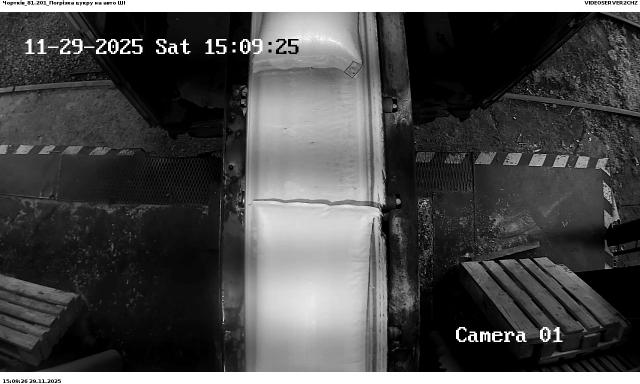bag: (253, 200, 380, 372), (254, 13, 364, 75)
